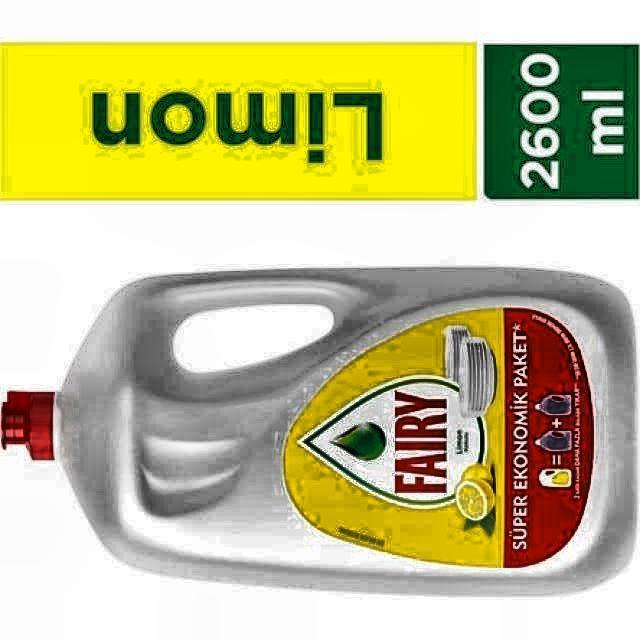plastic: (2, 268, 635, 594)
